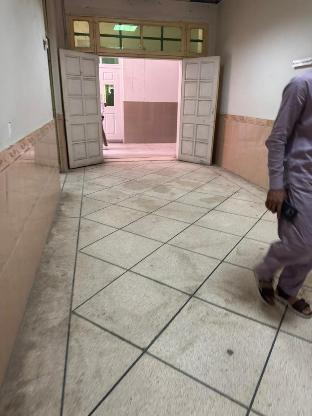door: (59, 45, 222, 168)
